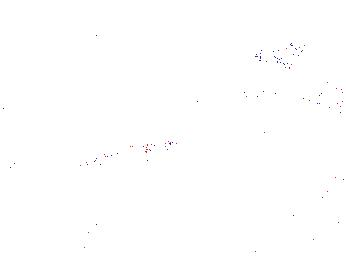X-ray fish: (92, 2, 168, 47)
glassfish: (77, 135, 177, 175)
redtail glassfish: (239, 88, 307, 112), (287, 45, 337, 75), (251, 41, 301, 65)
